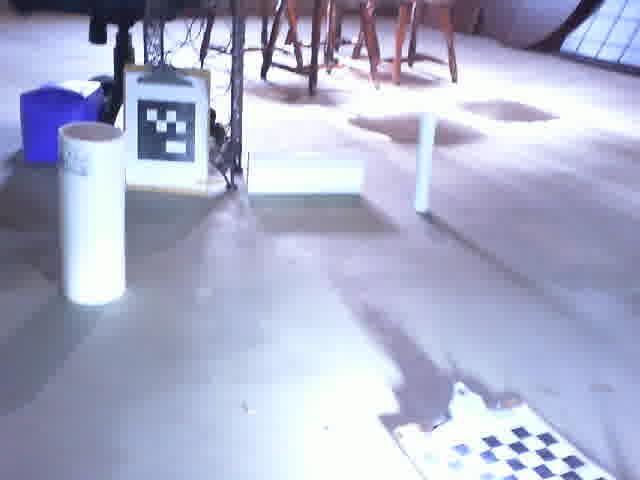coral: (56, 117, 123, 309), (240, 145, 370, 200)
